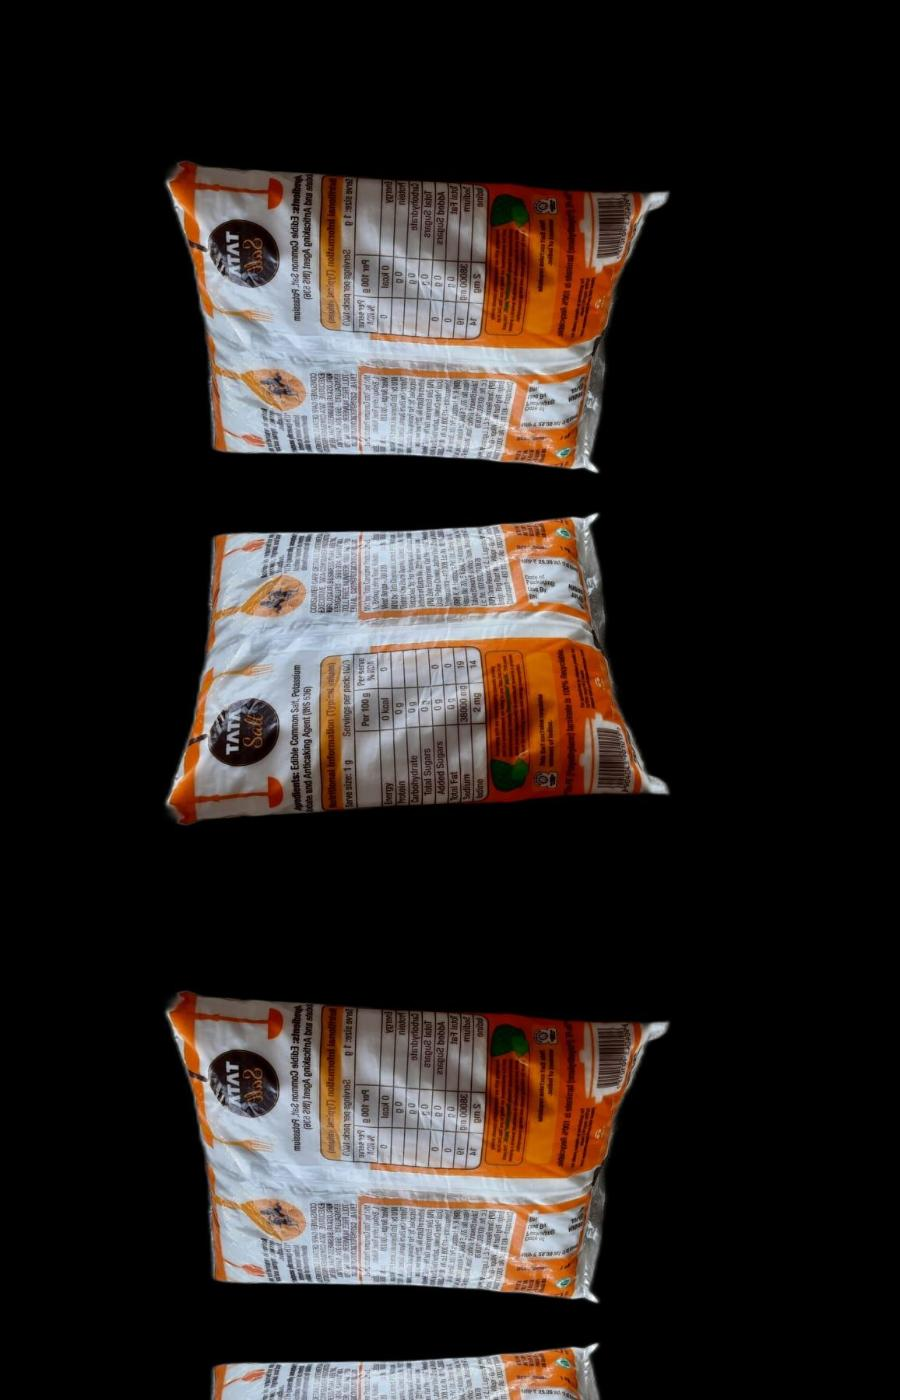Tata Salt Vacuum Evaporated Iodised Salt 1 kg Pouch: (156, 981, 671, 1311), (156, 504, 671, 834), (156, 150, 671, 480)
